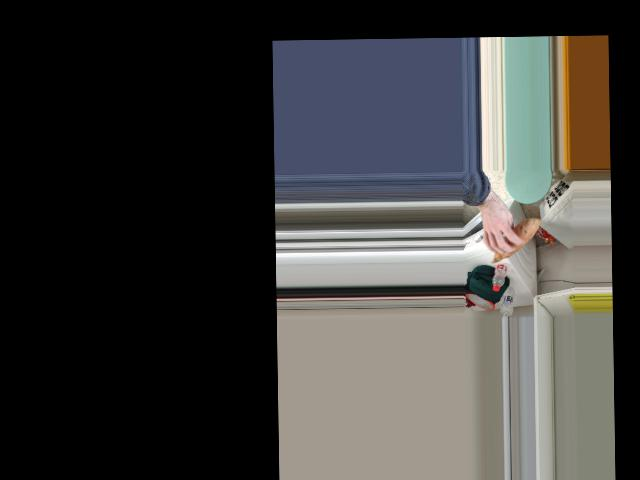sweet_potato: (487, 218, 538, 261)
